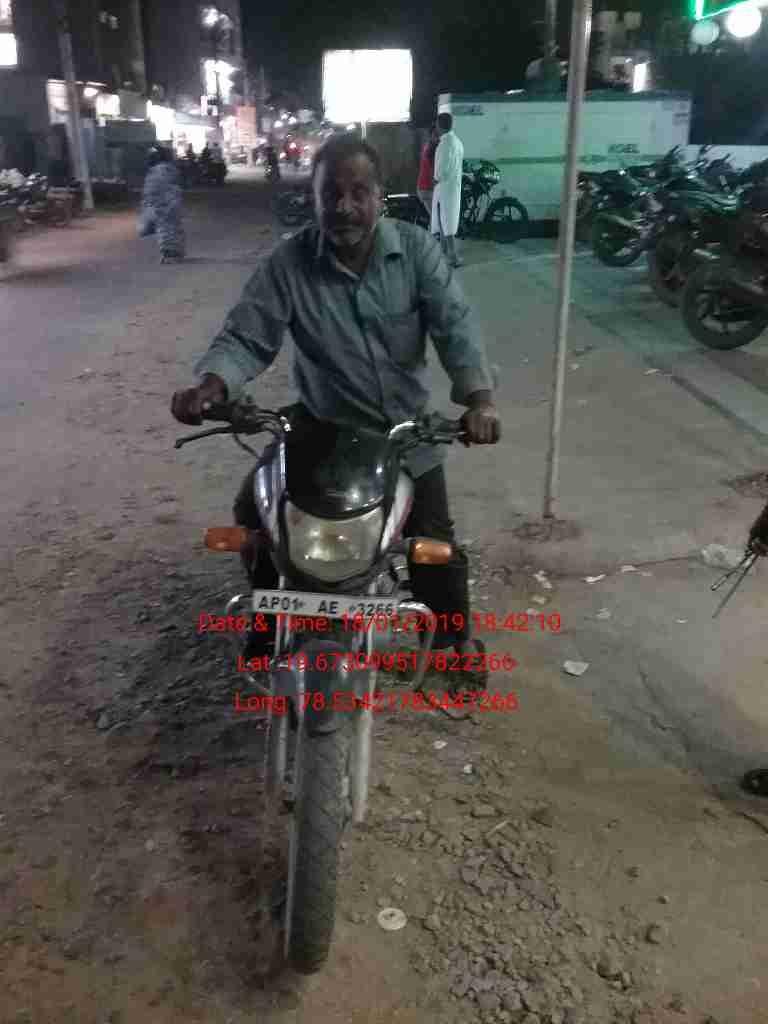plate: (252, 583, 404, 625)
